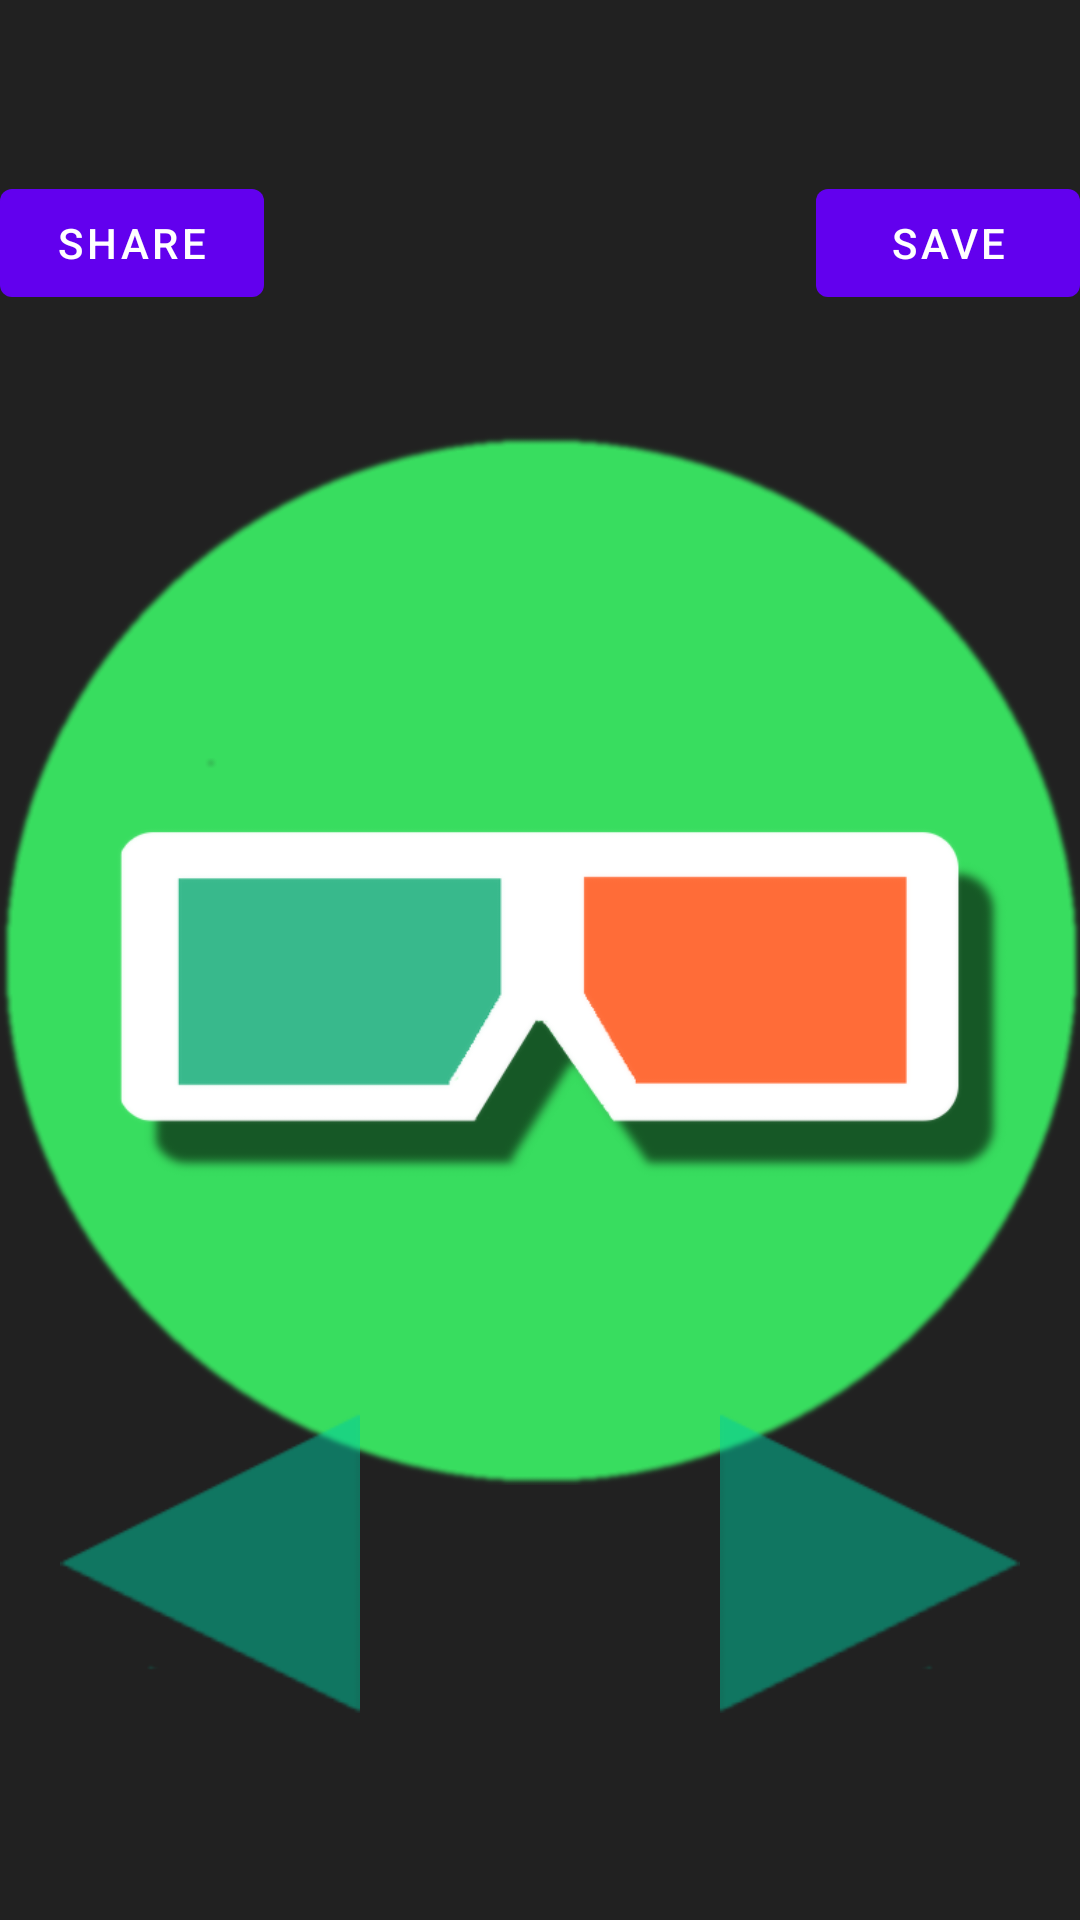

Named icons in this screenshot (1080*1920) and their bounding boxes, bbox=[x1, y1, x2, y2]:
left: bbox=[60, 1413, 360, 1711]
right: bbox=[720, 1413, 1020, 1711]
